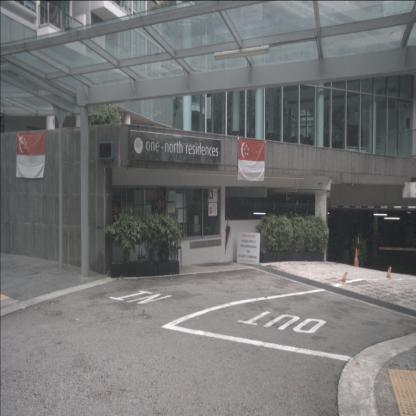human-pedestrian-adult: (150, 198, 164, 261)
movable_object-trafficcone: (353, 248, 358, 267)
